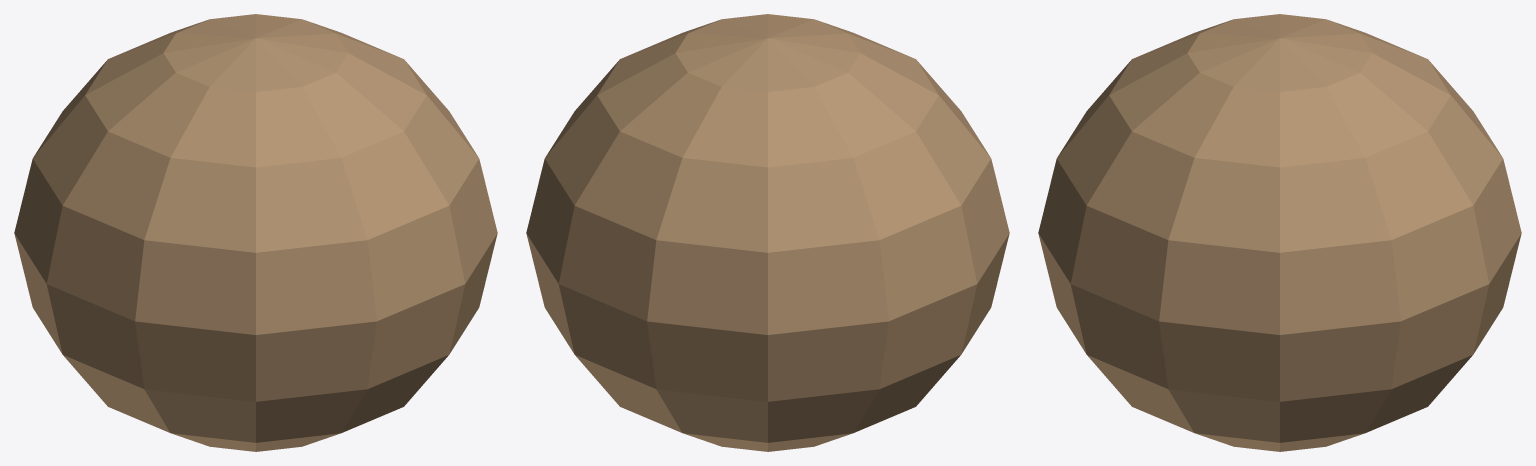
File: beast_head.fbx
3 renders of one model, left to right at view 1: azimuth 30°, elevation 25°; view 2: azimuth 150°, elevation 25°; view 3: azimuth 270°, elevation 25°, orthographic.
Parts seen in each view (by area): view 1: beast_head_geo; view 2: beast_head_geo; view 3: beast_head_geo.
Part boxes in pixels (box(x1,y1,x2,y2)): beast_head_geo: box(14, 14, 497, 451); beast_head_geo: box(526, 14, 1009, 451); beast_head_geo: box(1038, 14, 1521, 451).
Bounding box in the file's own units: 36 × 32 × 36.
